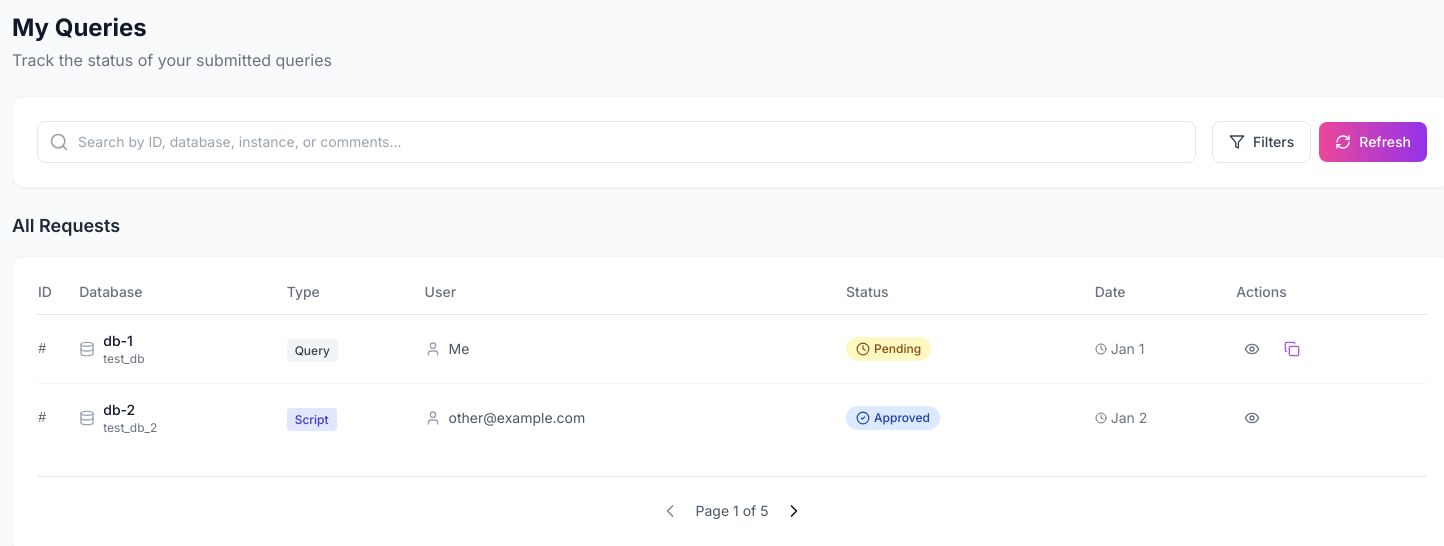
Test: MyQueriesPage › Pagination › should handle page changes
The image size is (1444, 546).
Check: the text "Page 1 of 5" is shown, box [696,501,768,521]
Click the button with class "lucide-chevron-right": (794, 511) [776,493,812,529]
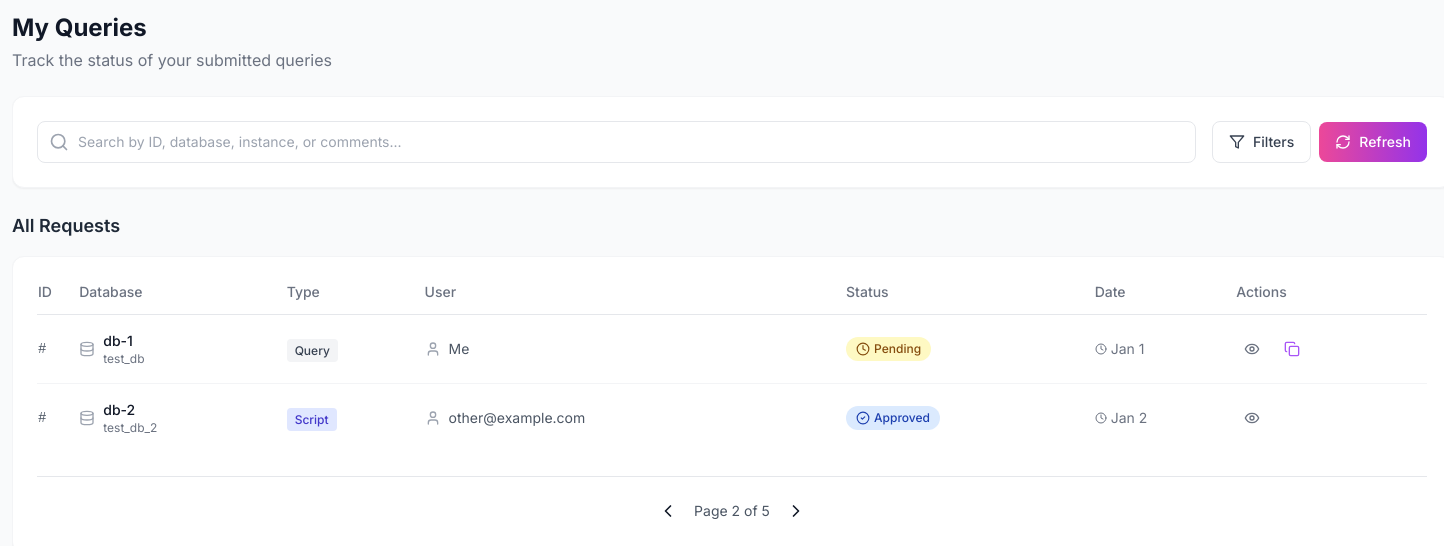
Check: the text "Page 2 of 5" is shown, box [694,501,770,521]
Click the button with class "lucide-chevron-left": (668, 511) [650,493,686,529]
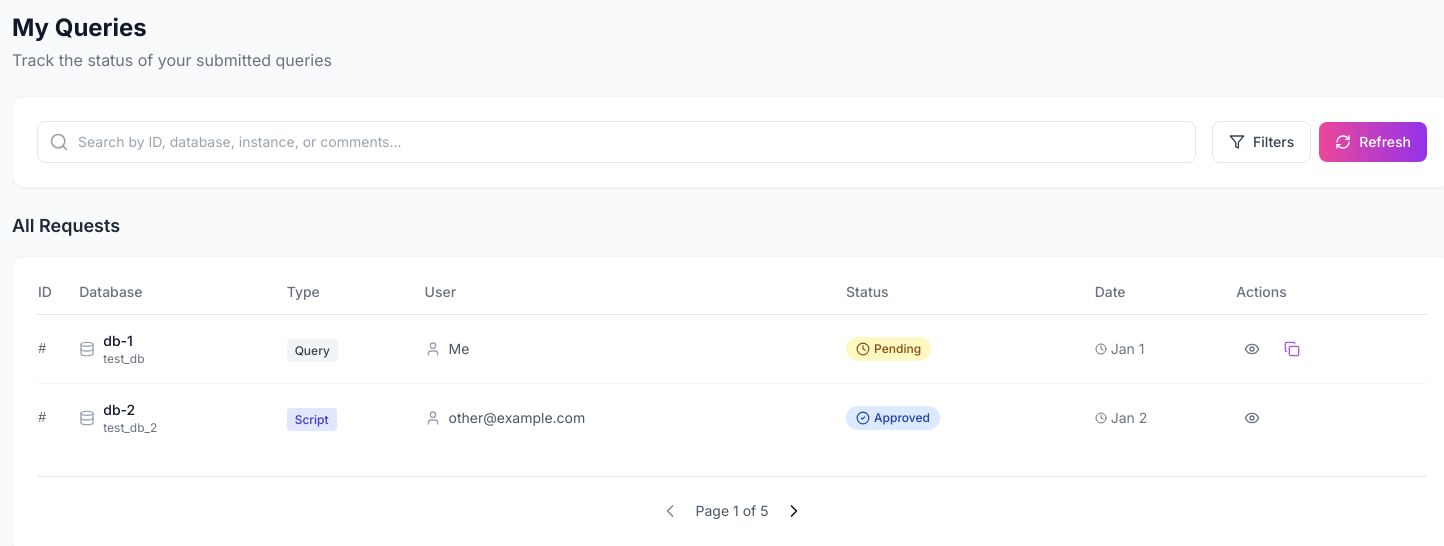
Check: the text "Page 1 of 5" is shown, box [696,501,768,521]
